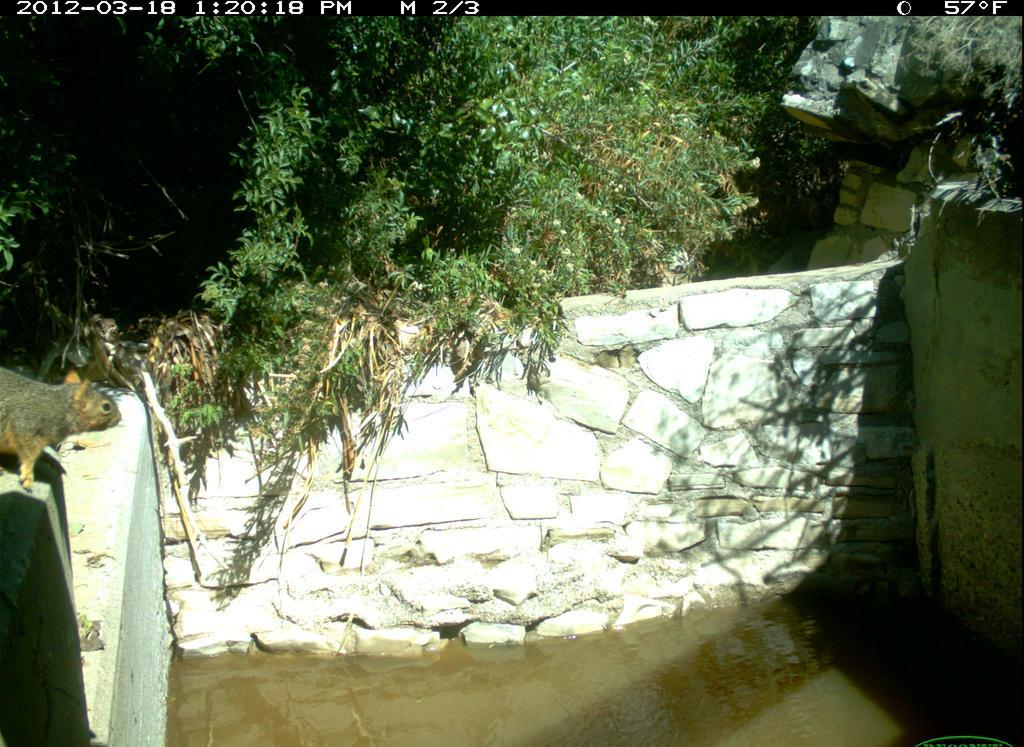squirrel: (4, 363, 131, 501)
